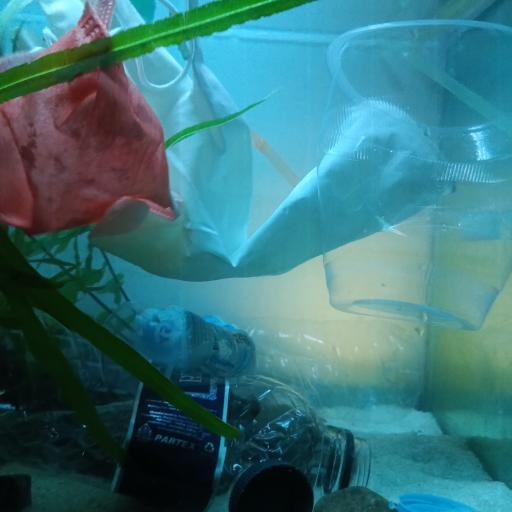bottle_cap: (229, 458, 315, 512), (390, 488, 476, 512)
glove: (87, 0, 453, 282)
mask: (0, 0, 176, 236)
plastic_bottle: (8, 311, 370, 507), (117, 308, 423, 426)
plastic_cup: (317, 18, 510, 332)
plastic_straw: (378, 29, 512, 142), (250, 128, 298, 189)
